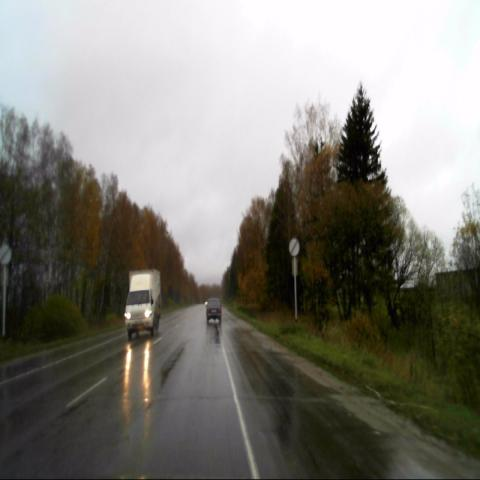3_31: (0, 244, 12, 265)
